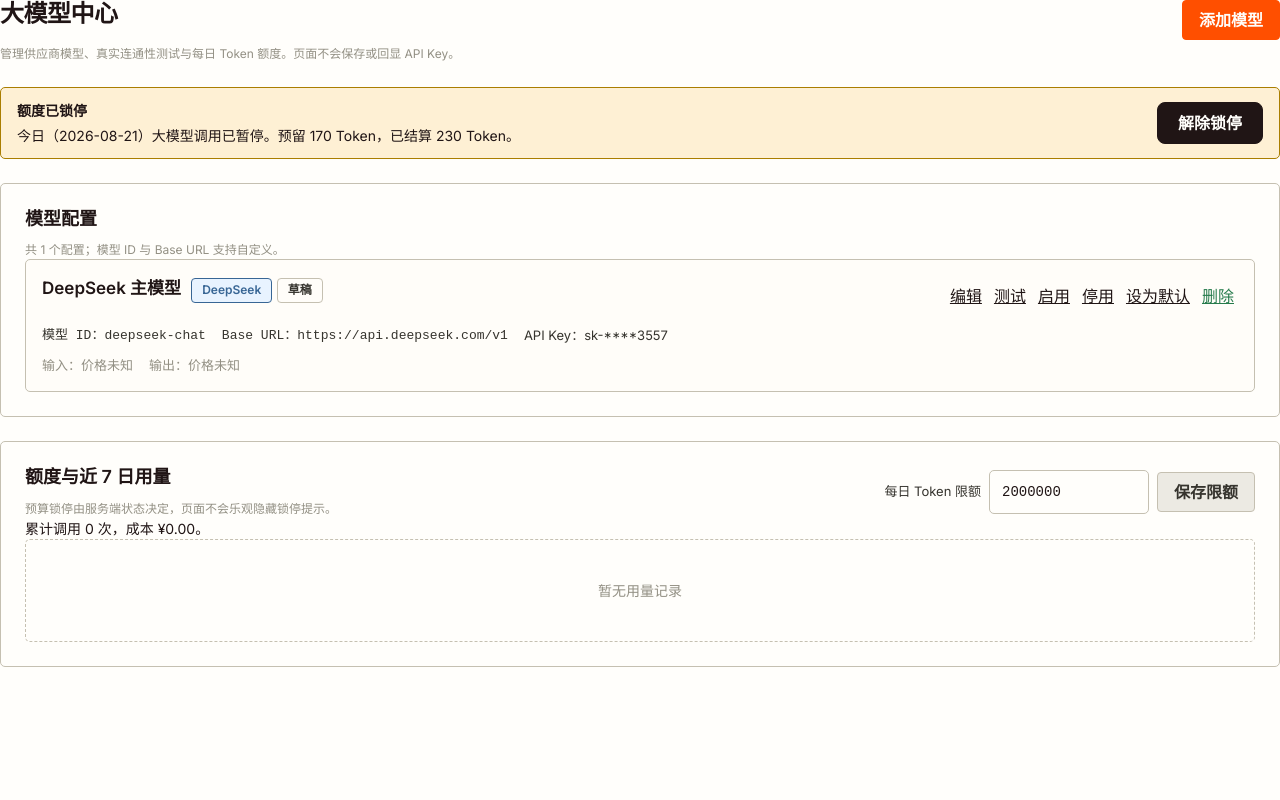
Test: LlmModelsView › shows locked budget totals and requires a Chinese reason before unlock
Expected: the text "额度已锁停" is shown, [17, 102, 87, 119]
Expected: the text "今日（2026-08-21）大模型调用已暂停。预留 170 Token，已结算 230 Token。" is shown, [17, 125, 520, 146]
Click the button "解除锁停" at (1210, 123), box [1157, 102, 1263, 144]
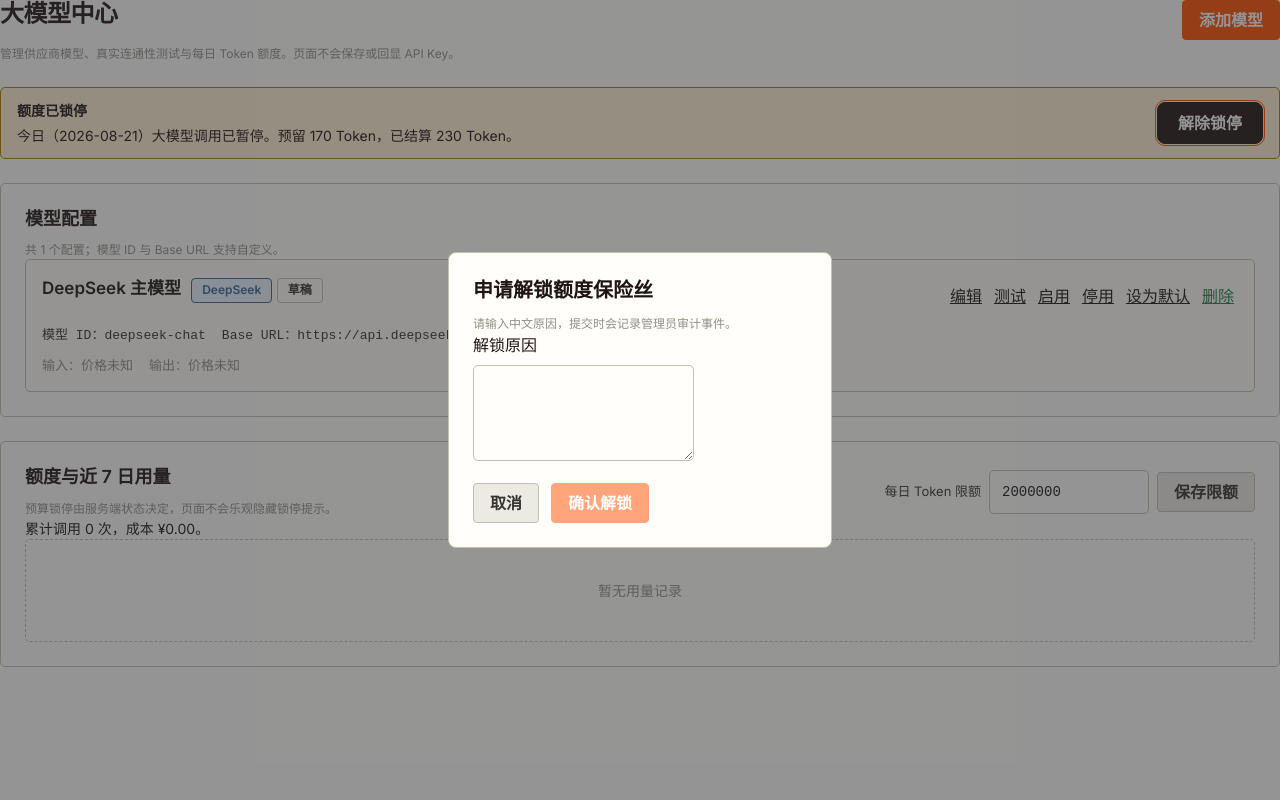
Expected: the button "确认解锁" is disabled, [551, 483, 649, 523]
Type "已核对供应商账单" into the text box labelled "解锁原因" at (584, 413), box [473, 365, 694, 461]
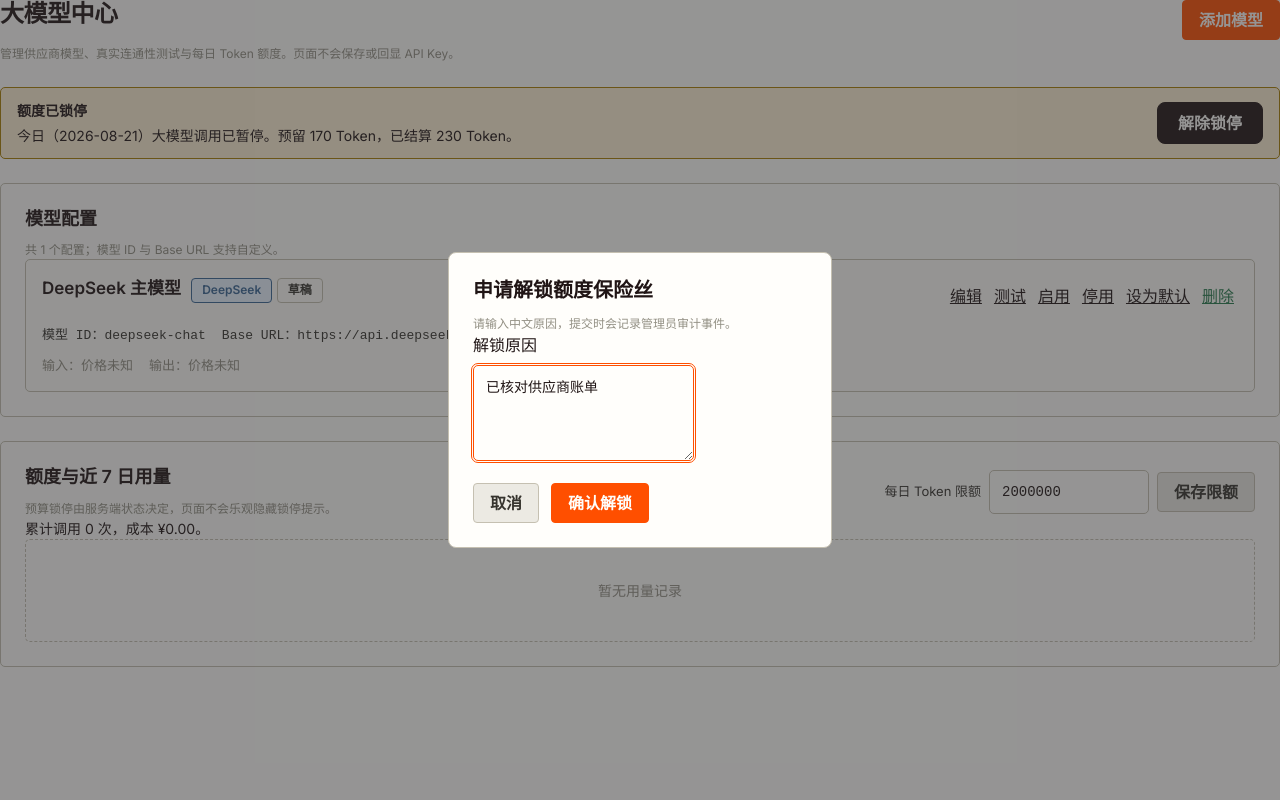
Click the button "确认解锁" at (600, 503), box [551, 483, 649, 523]
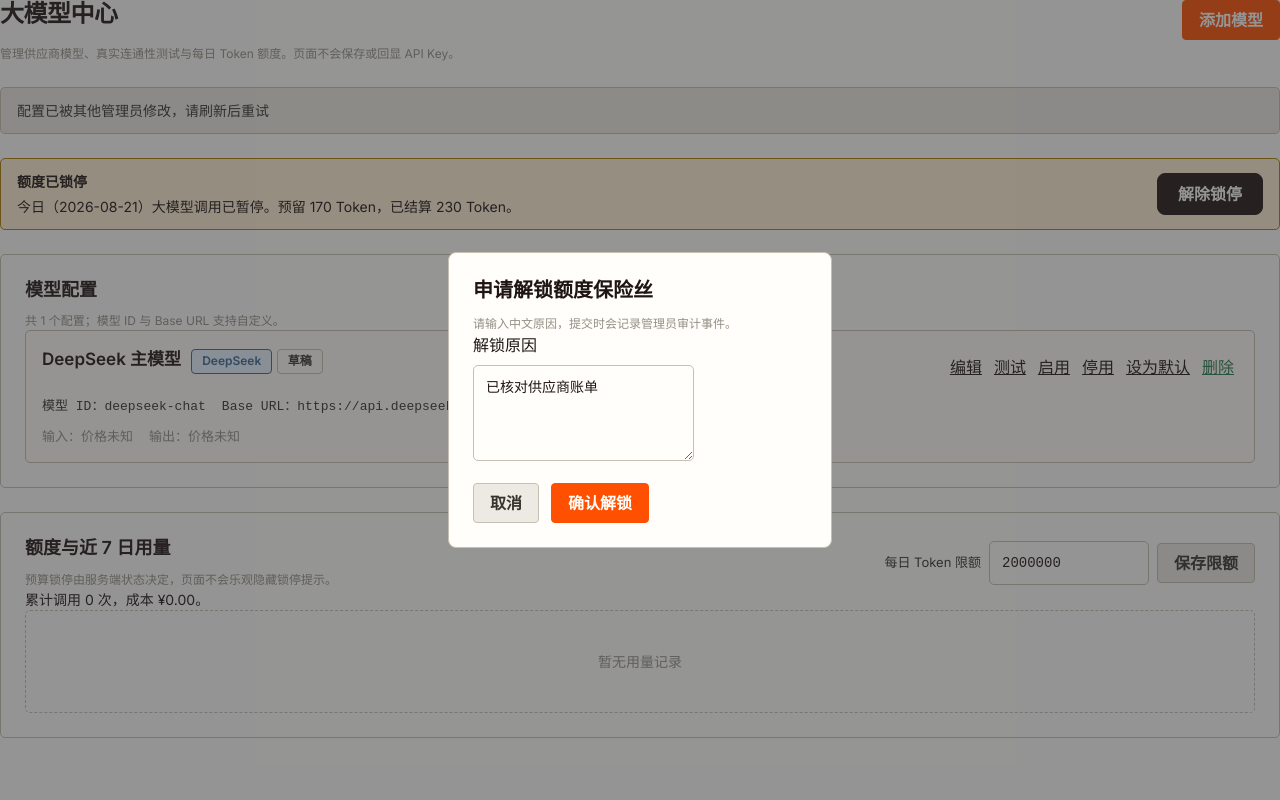
Expected: the text "额度已锁停" is shown, [17, 173, 87, 190]
Expected: the text "配置已被其他管理员修改，请刷新后重试" is shown, [0, 87, 1279, 134]
